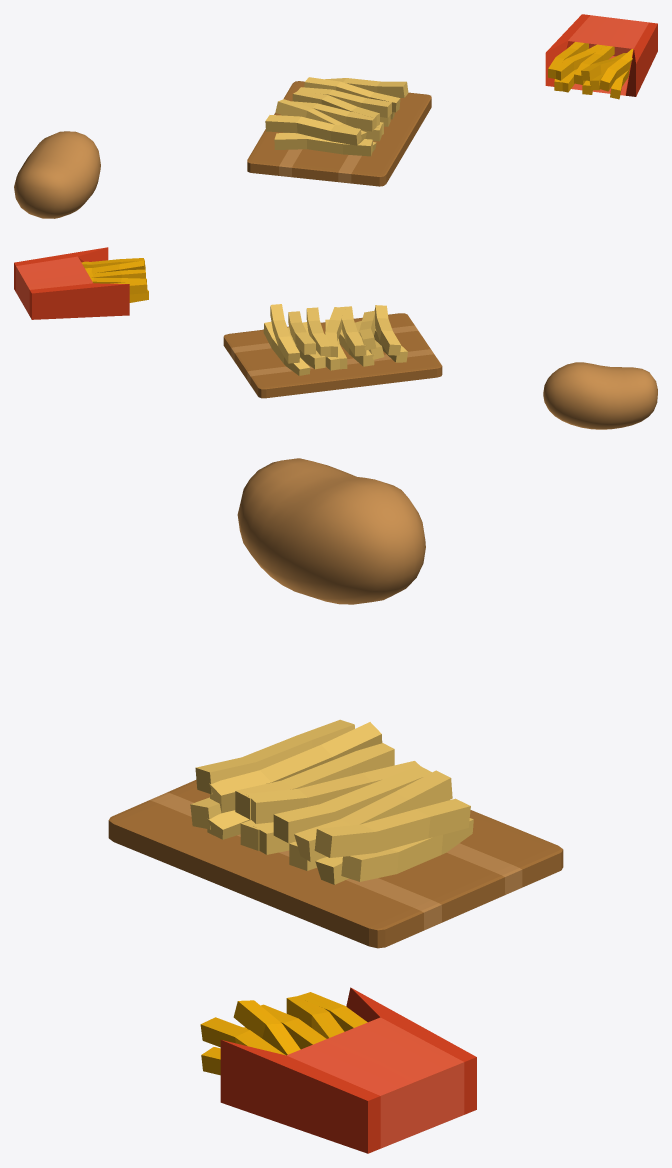
File: Patates.fbx
The picture shows the model from 3 angles, top to bottom: view 1: azimuth 30°, elevation 25°; view 2: azimuth 150°, elevation 25°; view 3: azimuth 270°, elevation 25°; orthographic projection. The views are drawn at different scales.
Visible parts, largest first — view 1: GiyilmisPatates, KizarmisPatates, Patates; view 2: GiyilmisPatates, KizarmisPatates, Patates; view 3: GiyilmisPatates, KizarmisPatates, Patates.
Boxes of the visible parts, <box> form: GiyilmisPatates: <box>247,77,431,186</box>; KizarmisPatates: <box>545,14,657,99</box>; Patates: <box>14,131,100,218</box>; GiyilmisPatates: <box>223,304,442,398</box>; KizarmisPatates: <box>14,247,148,319</box>; Patates: <box>543,362,657,429</box>; GiyilmisPatates: <box>108,719,563,948</box>; KizarmisPatates: <box>200,987,476,1153</box>; Patates: <box>237,458,425,604</box>.
Size of the model in its own units: 20.83 by 1.97 by 6.56.
